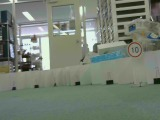speed_10: (127, 41, 142, 58)
